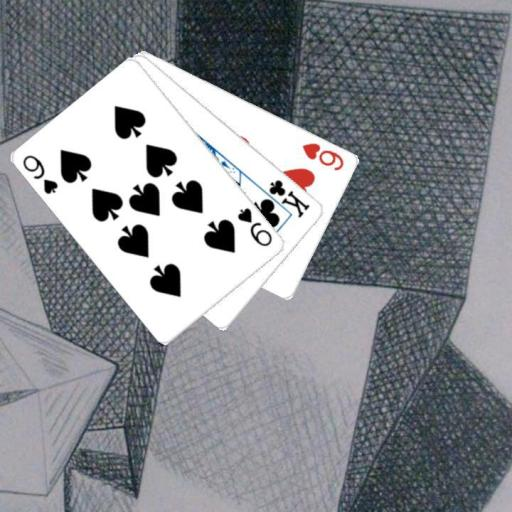6H: (300, 139, 346, 172)
9S: (235, 204, 275, 248), (20, 152, 60, 196)
KC: (257, 176, 312, 220)
